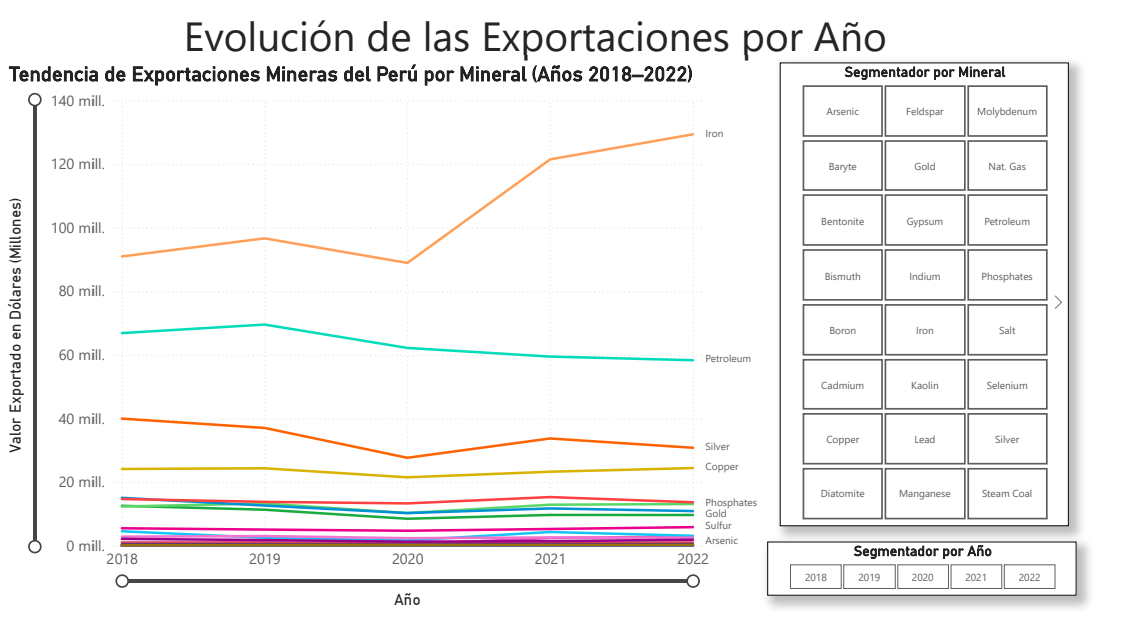

The dashboard page shown, as its layout file describes it:
{"tool":"powerbi","page":{"name":"Página 1","canvas":[1280,720],"ordinal":0},"visuals":[{"type":"textbox","box":[10.3,0,1259.4,100.2],"z":0},{"type":"lineChart","title":"Tendencia de Exportaciones Mineras del Perú por Mineral (Años 2018–2022)","fields":{"Category":["peru_mining_dashboard.Year"],"Series":["peru_mining_dashboard.Mineral"],"Y":["Sum(peru_mining_dashboard.Export_value)"]},"box":[10.3,69.4,917.6,650.3],"z":1000},{"type":"slicer","title":"Segmentador por Mineral","fields":{"Values":["peru_mining_dashboard.Mineral"]},"box":[927.9,69.4,341.8,548.8],"z":2000},{"type":"slicer","title":"Segmentador por Año","fields":{"Values":["peru_mining_dashboard.Year"]},"box":[913.7,637.4,366.3,64.3],"z":3000}]}

Visuals, with their boxes in screenshot pixels (x1, y1, x2, y2), scaled from the page's 1280x720 canvas onto the 1127x620 screenshot:
textbox: detection(9, 0, 1118, 86)
"Tendencia de Exportaciones Mineras del Perú por Mineral (Años 2018–2022)" lineChart: detection(9, 60, 817, 619)
"Segmentador por Mineral" slicer: detection(817, 60, 1118, 532)
"Segmentador por Año" slicer: detection(804, 549, 1126, 604)
